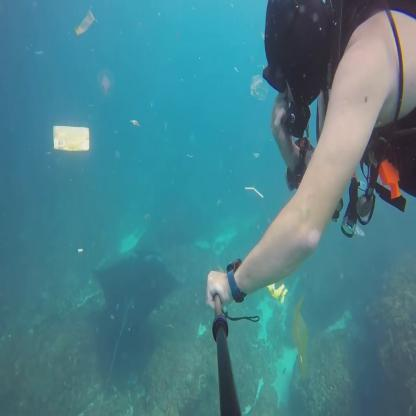Rác: (50, 121, 98, 157), (292, 302, 308, 372), (71, 16, 98, 31), (245, 184, 263, 198)
